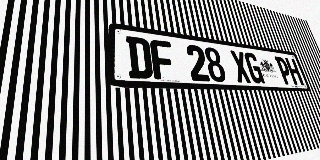2: (185, 44, 210, 81)
8: (203, 46, 227, 82)
D: (126, 36, 153, 79)
F: (150, 39, 176, 80)
G: (243, 52, 265, 84)
H: (285, 58, 304, 85)
P: (274, 56, 294, 85)
X: (229, 50, 252, 83)
